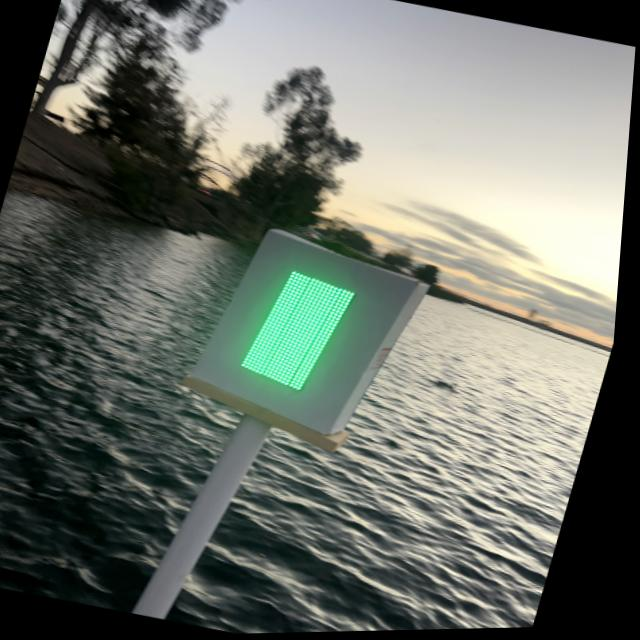led: (225, 252, 383, 420)
